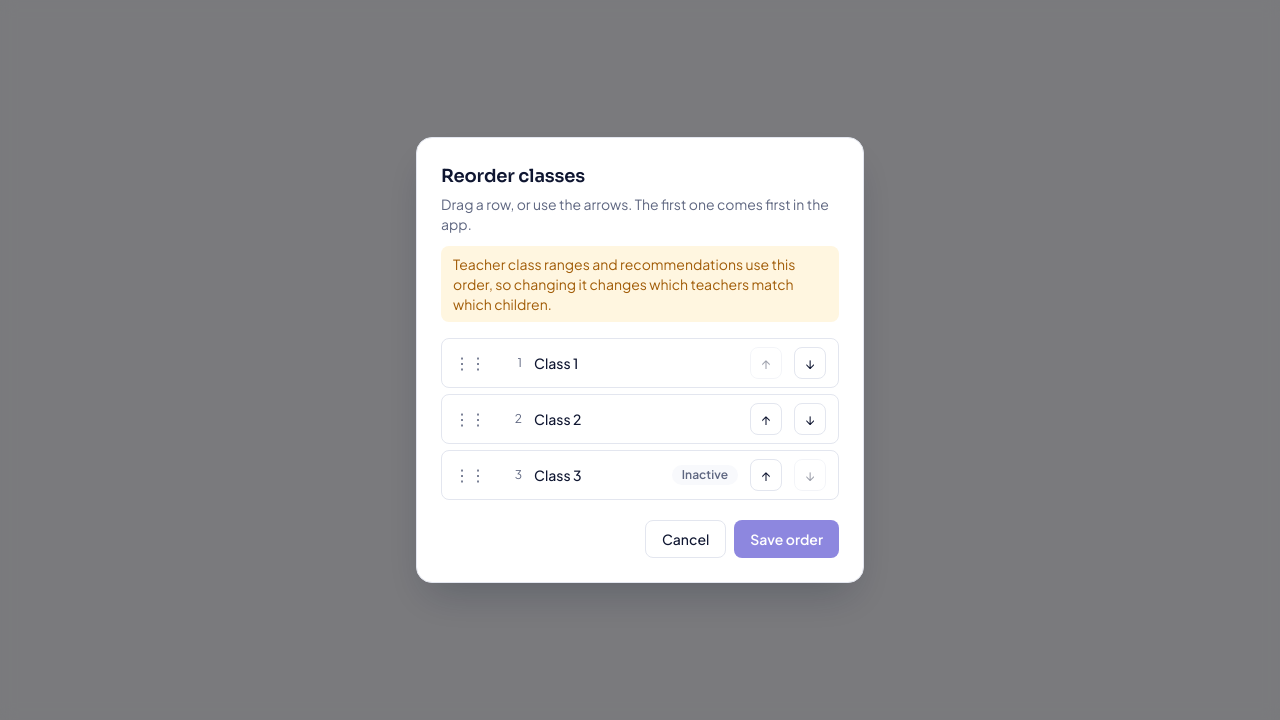
Scenario: ReorderDialog › shows the API error and keeps the dialog open
The width and height of the screenshot is (1280, 720).
Expected: the list is shown, [441,338,839,500]
Click the button named "Move Class 2 up".
click(766, 419)  # box [750,403,782,435]
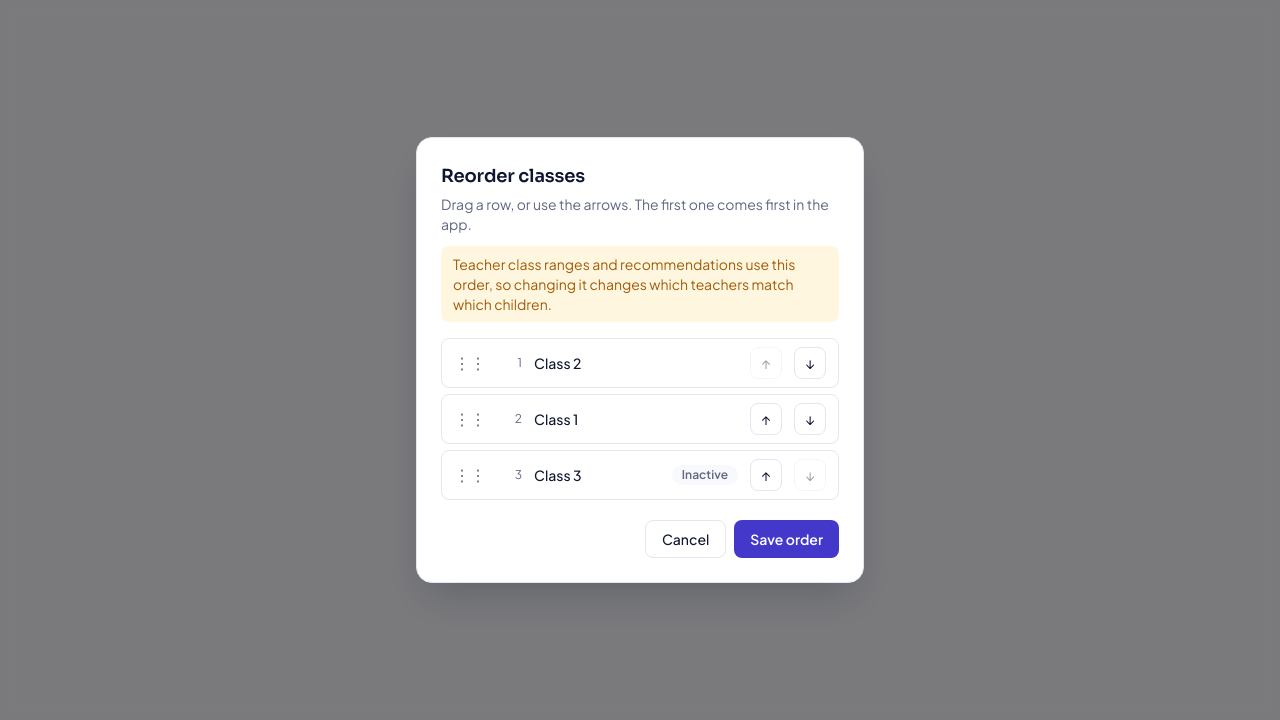
Click the button "Save order".
click(787, 539)  # box [734,520,839,558]
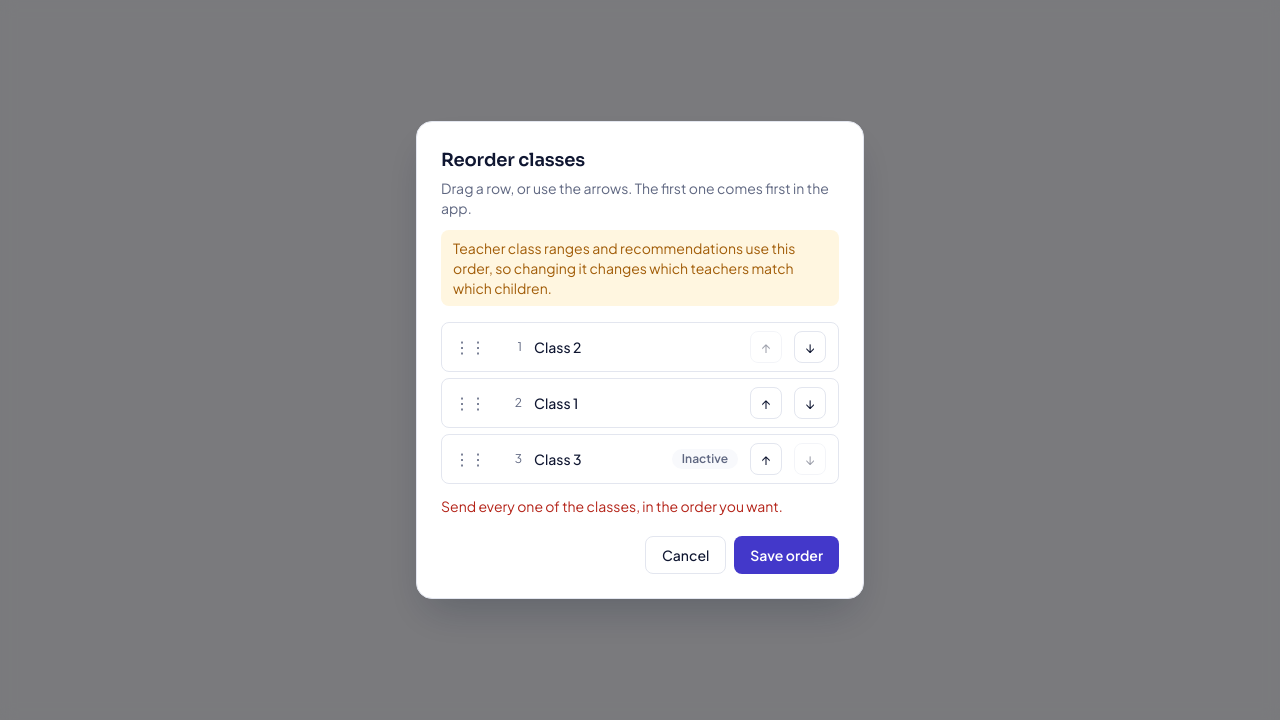
Result: the button "Save order" is enabled at [734,536,839,574]
Result: the message shows "Send every one of the classes" at [441,497,783,515]
